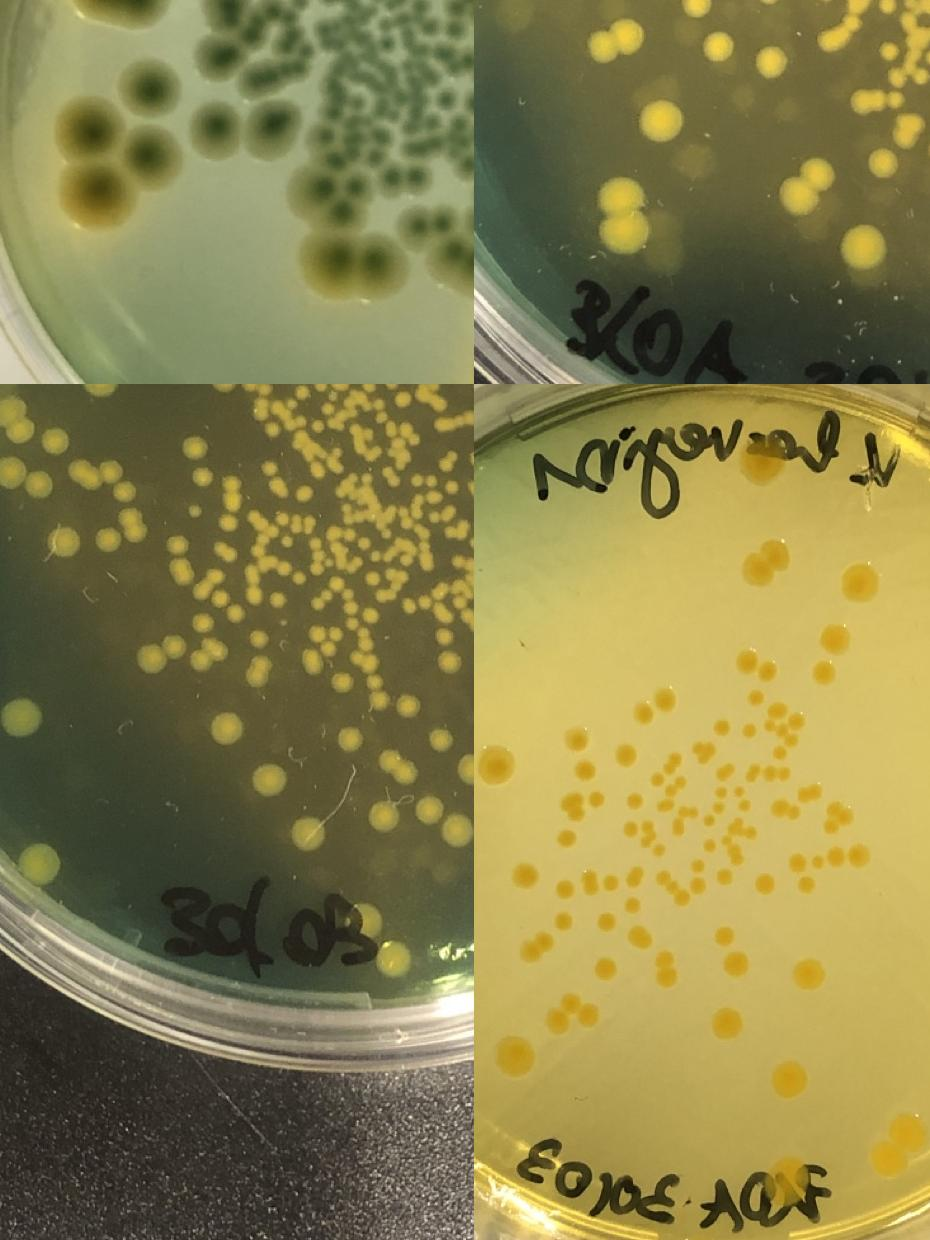valgino: (52, 95, 187, 231), (187, 98, 304, 160), (301, 233, 361, 294), (121, 57, 181, 117), (397, 208, 432, 253), (307, 120, 333, 148), (430, 208, 455, 234)
vharveyi: (867, 1110, 929, 1184), (778, 153, 838, 217), (835, 218, 889, 274), (596, 206, 650, 262), (634, 93, 688, 149), (321, 384, 388, 429), (587, 14, 646, 62), (657, 775, 702, 836), (541, 992, 600, 1038), (309, 529, 364, 576), (310, 577, 359, 629), (741, 540, 792, 584), (491, 1034, 538, 1080), (765, 1159, 811, 1205), (743, 434, 789, 480), (719, 815, 758, 866), (138, 636, 182, 676), (752, 44, 792, 86), (698, 26, 738, 68), (848, 86, 906, 113), (812, 842, 872, 868), (736, 647, 778, 683), (245, 555, 292, 587), (70, 461, 121, 489), (248, 511, 278, 558), (761, 714, 805, 746), (656, 868, 691, 908), (0, 396, 31, 441), (771, 1060, 807, 1098), (792, 955, 828, 992), (418, 582, 450, 623), (478, 747, 514, 783), (842, 565, 878, 601), (21, 847, 57, 882), (350, 626, 378, 670), (379, 750, 415, 783), (2, 702, 38, 735), (374, 568, 408, 602), (520, 931, 556, 963), (868, 145, 900, 180), (818, 622, 852, 654), (190, 641, 226, 670), (712, 1008, 744, 1040), (640, 819, 666, 858), (244, 384, 272, 420), (346, 905, 378, 936), (824, 800, 854, 833), (118, 506, 145, 542), (368, 802, 400, 832), (47, 524, 77, 556), (276, 512, 316, 536), (656, 948, 680, 988), (245, 654, 271, 690), (211, 712, 241, 743), (192, 569, 222, 600), (24, 469, 54, 500), (442, 815, 474, 844), (378, 944, 408, 974), (254, 764, 284, 794), (293, 818, 323, 847), (742, 764, 792, 781), (415, 384, 445, 410), (560, 792, 586, 822), (434, 410, 474, 429), (368, 676, 389, 712), (0, 457, 24, 488), (681, 0, 713, 21), (693, 740, 718, 766), (418, 528, 433, 570), (771, 800, 802, 820), (183, 435, 208, 459), (455, 753, 474, 784), (430, 728, 454, 752), (338, 727, 362, 751), (396, 694, 420, 718), (95, 527, 119, 551), (446, 518, 470, 542), (44, 428, 68, 452), (593, 957, 617, 981), (722, 953, 746, 977), (754, 871, 778, 895), (514, 864, 538, 888), (573, 757, 597, 781), (615, 743, 639, 767), (565, 728, 589, 752), (654, 687, 678, 711), (811, 660, 835, 684), (732, 786, 752, 814), (878, 40, 902, 62), (624, 790, 646, 814), (430, 503, 455, 524), (676, 1229, 722, 1240), (595, 910, 617, 933), (552, 909, 574, 932), (553, 878, 576, 900), (662, 750, 683, 774), (626, 926, 648, 948), (713, 924, 735, 946), (786, 852, 808, 874), (556, 828, 578, 850), (632, 702, 654, 724), (213, 542, 237, 562), (350, 424, 374, 444), (625, 865, 645, 889), (800, 783, 824, 803), (368, 548, 394, 566), (715, 761, 737, 781), (400, 422, 418, 446), (582, 870, 598, 896), (419, 800, 439, 820), (330, 673, 350, 693), (439, 652, 459, 672), (434, 626, 454, 646), (192, 614, 212, 634), (454, 590, 474, 610), (170, 556, 190, 576), (167, 535, 187, 555), (114, 482, 134, 502), (192, 466, 212, 486), (397, 506, 413, 530), (291, 428, 307, 452), (911, 67, 930, 87), (286, 414, 308, 431), (83, 384, 114, 396), (384, 466, 400, 489), (411, 492, 424, 520), (302, 652, 322, 670), (716, 866, 734, 886), (336, 479, 354, 498), (440, 451, 458, 470), (588, 790, 605, 810), (624, 896, 642, 914), (877, 0, 897, 15), (453, 556, 474, 570), (712, 718, 728, 736), (770, 700, 786, 718), (455, 574, 474, 589), (690, 877, 706, 894), (689, 857, 705, 874), (741, 722, 757, 739), (748, 688, 764, 705), (602, 874, 618, 890), (622, 820, 638, 836), (770, 746, 786, 762), (462, 610, 474, 630), (648, 771, 664, 786), (800, 878, 814, 893), (321, 642, 335, 656), (251, 632, 265, 646), (310, 627, 324, 641), (364, 610, 378, 624), (228, 606, 242, 620), (402, 598, 416, 612), (247, 591, 261, 605), (365, 572, 379, 586), (293, 570, 307, 584), (222, 516, 236, 530), (188, 506, 202, 520), (226, 494, 240, 508), (296, 488, 310, 502), (225, 477, 239, 491), (712, 802, 726, 816), (715, 786, 729, 800), (329, 626, 342, 640), (358, 538, 372, 551), (279, 534, 292, 548), (269, 479, 283, 492), (266, 424, 279, 438), (395, 393, 409, 406), (261, 461, 274, 474), (270, 594, 284, 606), (214, 592, 226, 606), (379, 526, 391, 540), (343, 513, 355, 527), (428, 490, 440, 504), (446, 481, 458, 495), (410, 474, 422, 488), (271, 400, 283, 414), (286, 398, 298, 412), (704, 838, 716, 852), (702, 814, 714, 828), (425, 476, 437, 489), (311, 465, 323, 478), (330, 447, 342, 460), (393, 438, 405, 451), (312, 420, 324, 433), (296, 388, 308, 401), (401, 554, 413, 566), (344, 530, 356, 542), (385, 426, 397, 437), (924, 48, 930, 67), (386, 384, 403, 390), (315, 384, 327, 392), (469, 536, 474, 550), (469, 483, 474, 495), (471, 452, 474, 465)
